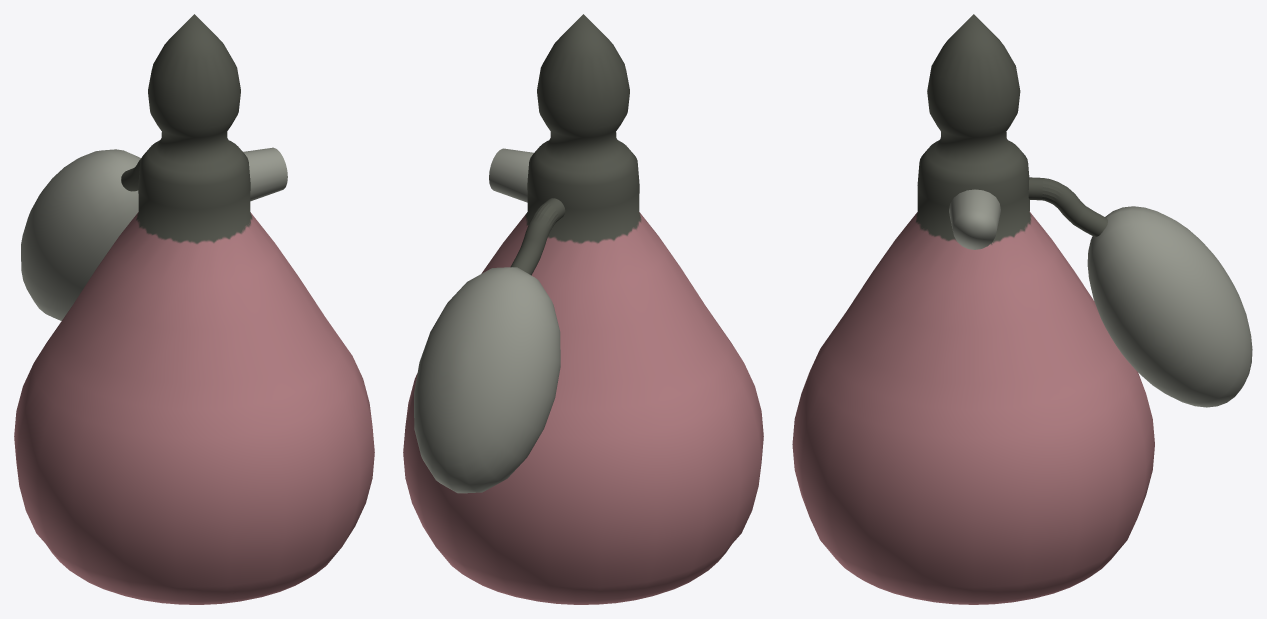
The model's file is perfumebombfixed.fbx.
3 views of the same model, side by side, from view 1: azimuth 30°, elevation 25°; view 2: azimuth 150°, elevation 25°; view 3: azimuth 270°, elevation 25° (orthographic).
Visible parts, largest first — view 1: polySurface1; view 2: polySurface1; view 3: polySurface1.
Part boxes in pixels (bbox=[...]): polySurface1: bbox=[14, 14, 374, 604]; polySurface1: bbox=[403, 14, 763, 604]; polySurface1: bbox=[792, 14, 1252, 604].
Bounding box in the file's own units: 2 × 3.41 × 2.54.
